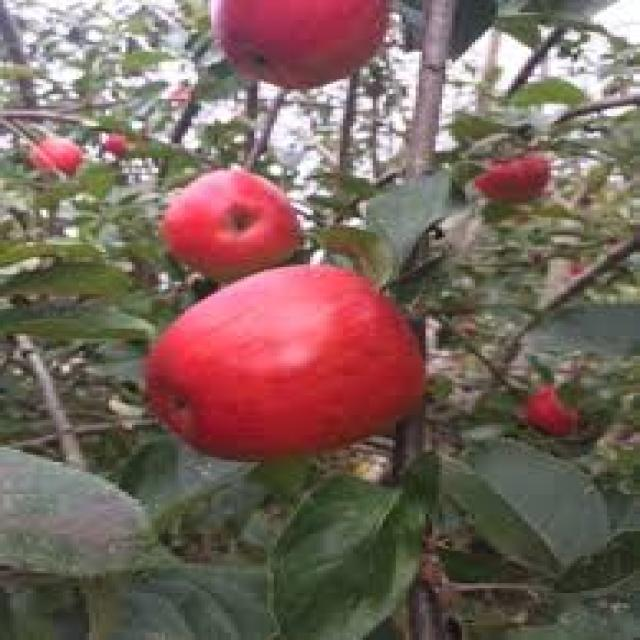apple: (142, 266, 432, 459)
